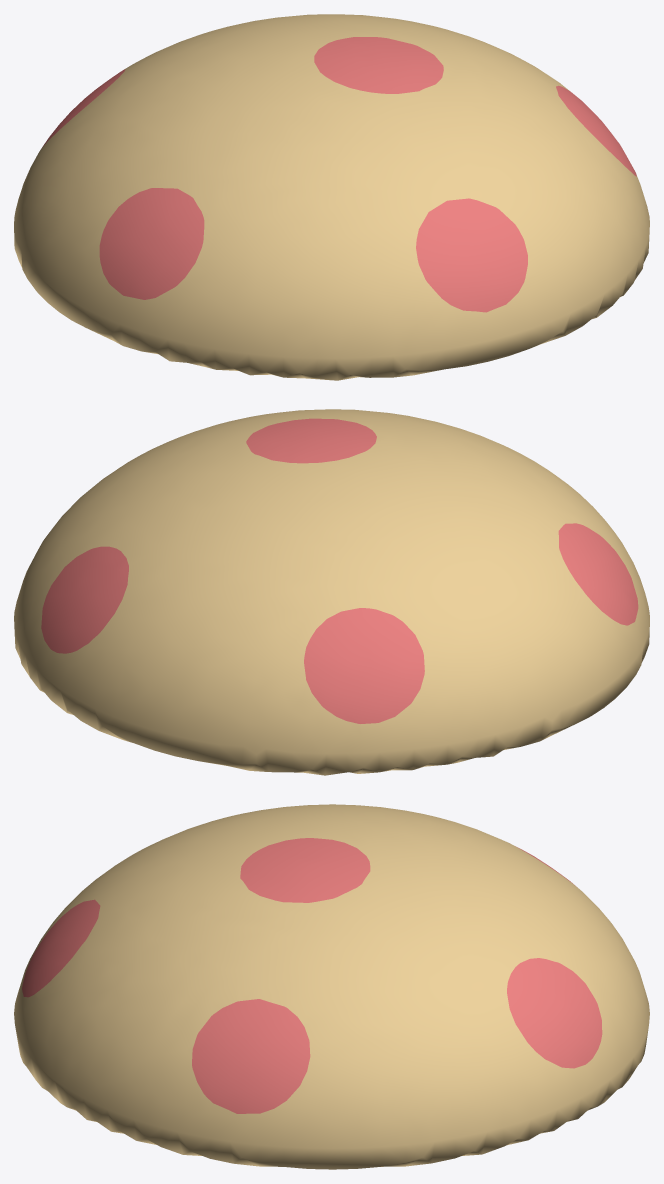
File: acc_mushroom.glb
3 renders of one model, top to bottom at view 1: azimuth 30°, elevation 25°; view 2: azimuth 150°, elevation 25°; view 3: azimuth 270°, elevation 25°, orthographic.
Parts seen in each view (by area): view 1: body; view 2: body; view 3: body.
Part boxes in pixels (box(x1,y1,x2,y2)): body: box(14, 14, 649, 380); body: box(14, 409, 649, 775); body: box(14, 804, 649, 1169).
Bounding box in the file's own units: 0.6755 × 0.23 × 0.6755.
